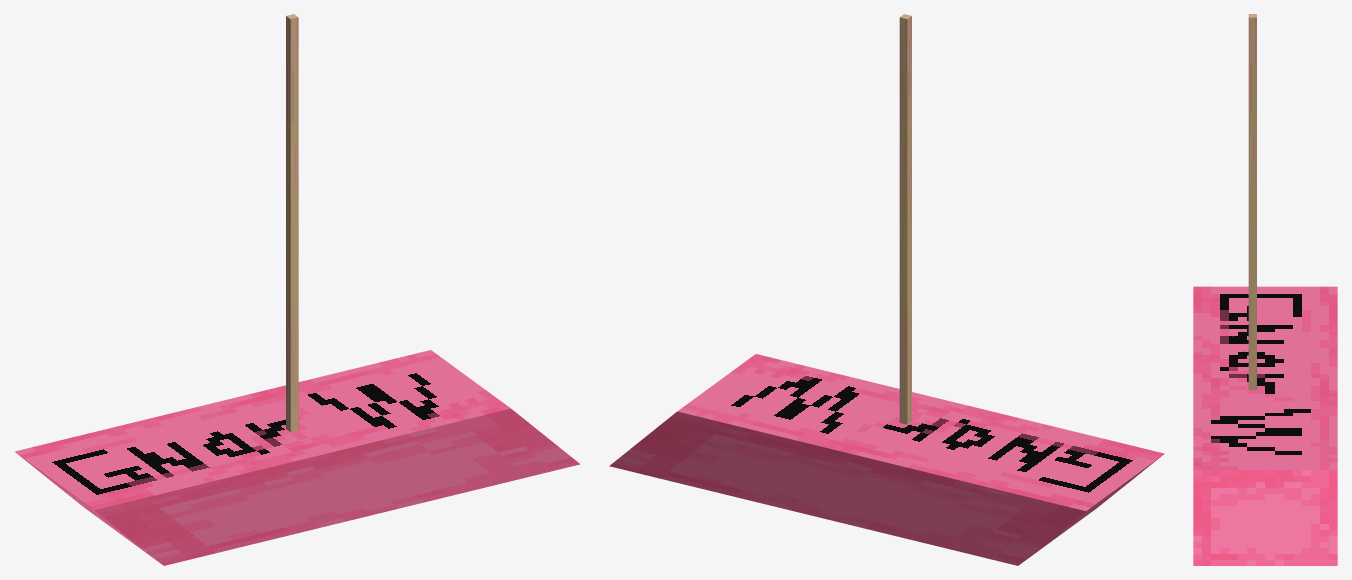
The model's file is psywheel_base.glb.
The picture shows the model from 3 angles, left to right: view 1: azimuth 30°, elevation 25°; view 2: azimuth 150°, elevation 25°; view 3: azimuth 270°, elevation 25°; orthographic projection. The views are drawn at different scales.
Visible parts, largest first — view 1: psywheel_base; view 2: psywheel_base; view 3: psywheel_base.
Part boxes in pixels (x1,y1,x2,y2): psywheel_base: [14, 14, 579, 565]; psywheel_base: [609, 14, 1164, 565]; psywheel_base: [1193, 14, 1337, 565].
Bounding box in the file's own units: 10 × 9.55 × 2.86.
1 material, 1 textured.
